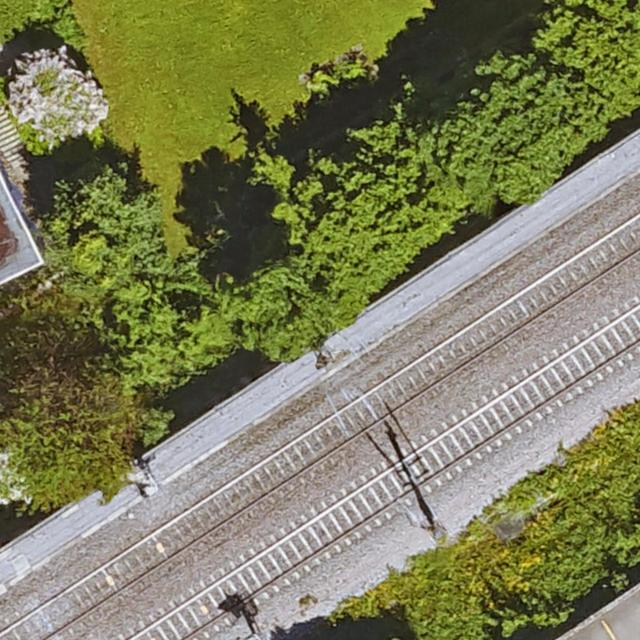tree: (269, 93, 445, 275), (5, 364, 129, 492), (44, 167, 162, 288), (6, 54, 101, 144)
